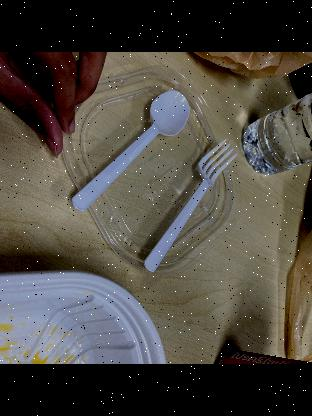Others: (70, 85, 192, 217), (135, 134, 235, 272)
